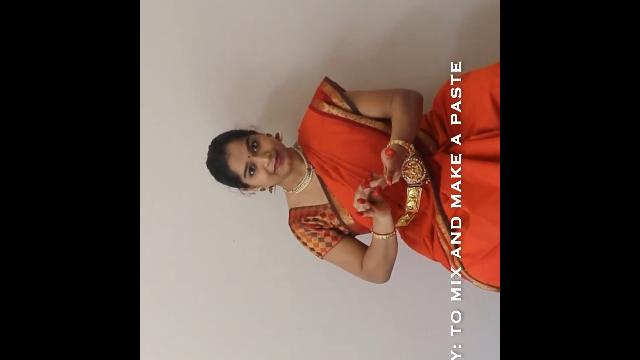katak: (354, 130, 426, 200)
